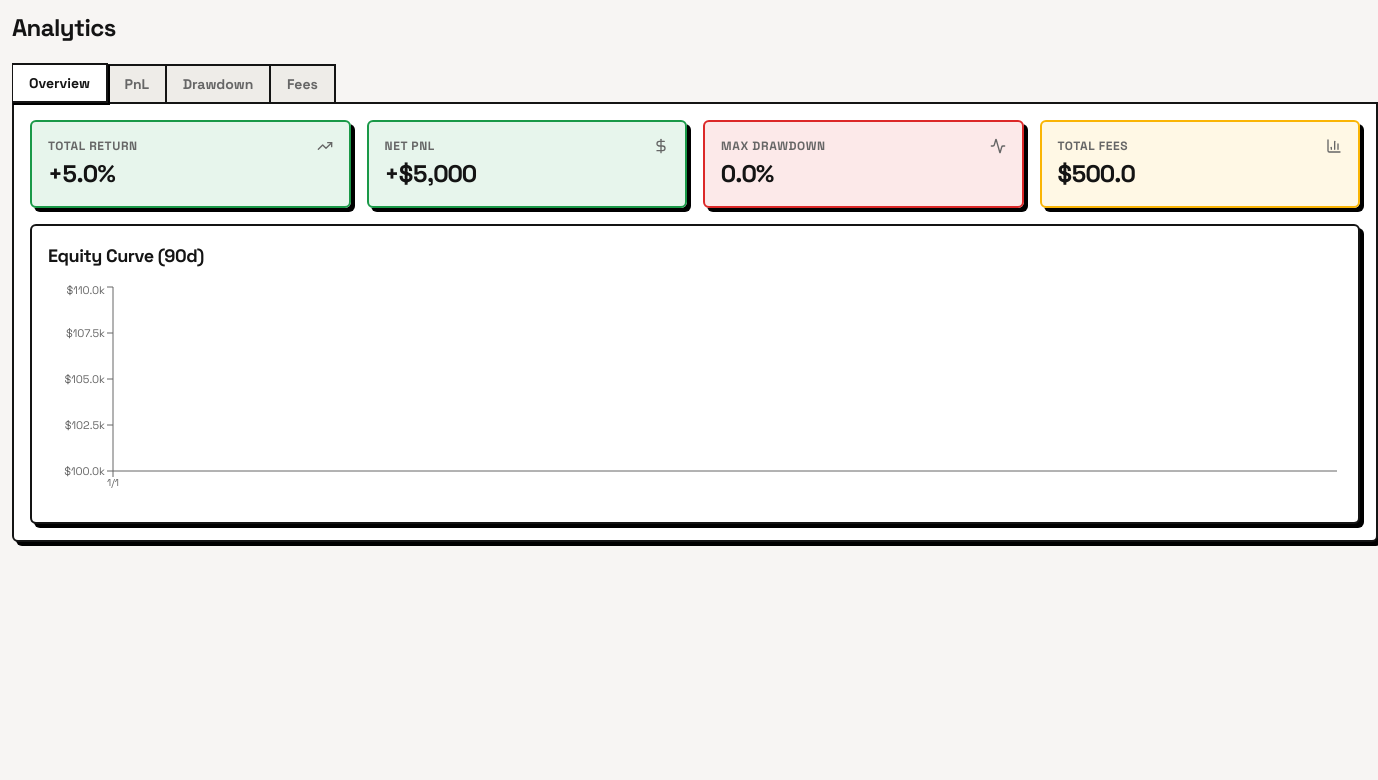
Test case: AnalyticsPage › Drawdown Tab › shows error state in Drawdown tab
Click the button "Drawdown".
click(218, 84)  # box [165,64,272,104]
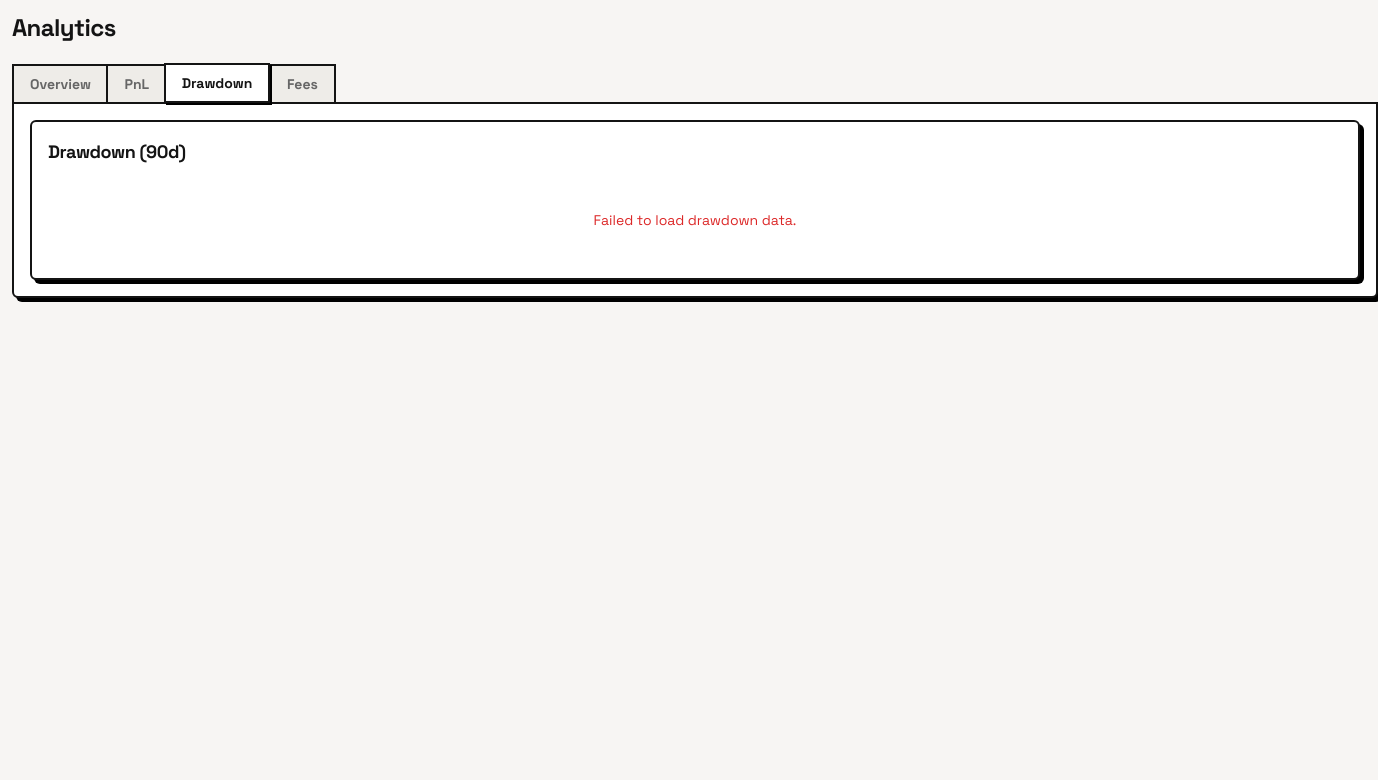
Result: the text "Failed to load drawdown data." is shown at [594,210,796,228]
